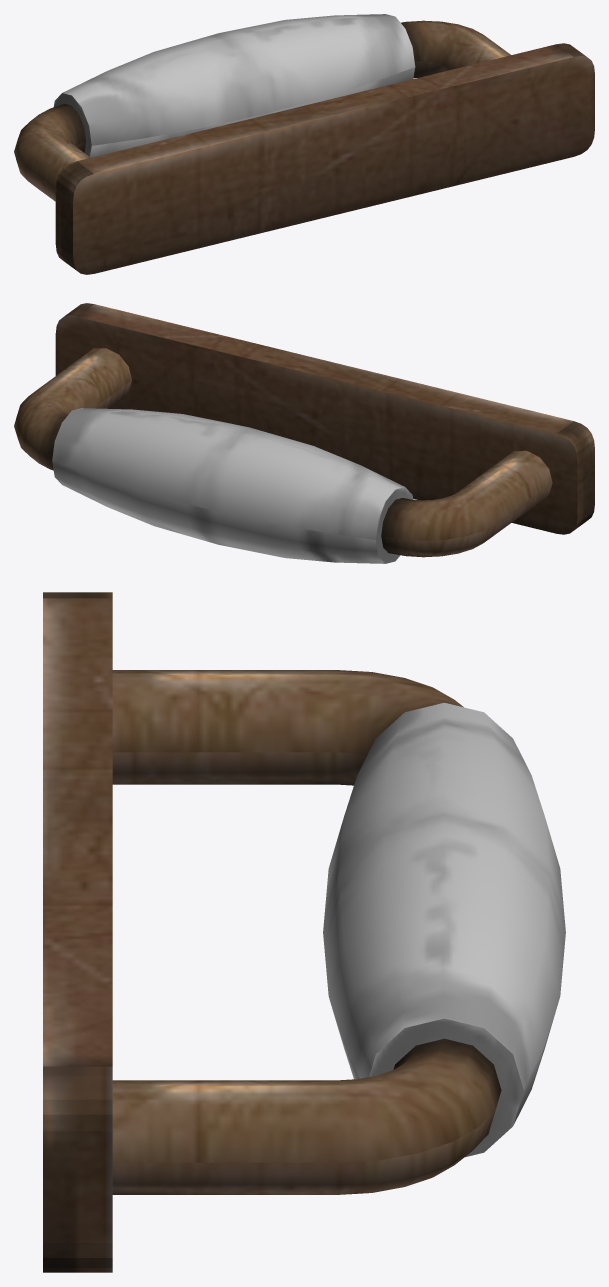
Rendered from HandleBar.FBX.
3 views of the same model, one above another, from view 1: azimuth 30°, elevation 25°; view 2: azimuth 150°, elevation 25°; view 3: azimuth 270°, elevation 25° (orthographic). The views are drawn at different scales.
Visible parts, largest first — view 1: Torus006; view 2: Torus006; view 3: Torus006.
Part boxes in pixels (box(x1,y1,x2,y2)): Torus006: box(14, 14, 594, 274); Torus006: box(14, 303, 594, 563); Torus006: box(43, 592, 565, 1272).
Bounding box in the file's own units: 9.61 × 1.94 × 4.17.
